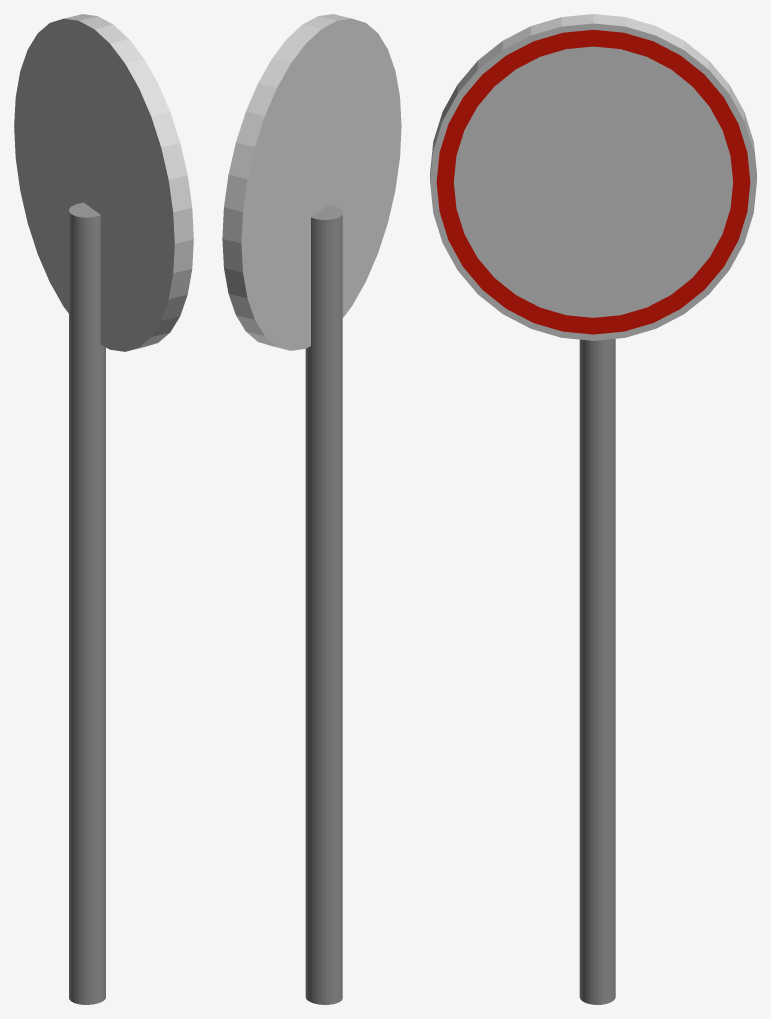
File: circle.040_lev3.glb
3 renders of one model, left to right at view 1: azimuth 30°, elevation 25°; view 2: azimuth 150°, elevation 25°; view 3: azimuth 270°, elevation 25°, orthographic. The views are drawn at different scales.
Parts seen in each view (by area): view 1: circle.040_lev3; view 2: circle.040_lev3; view 3: circle.040_lev3.
Part boxes in pixels (box(x1,y1,x2,y2)): circle.040_lev3: box(14, 14, 193, 1004); circle.040_lev3: box(222, 14, 401, 1004); circle.040_lev3: box(430, 14, 756, 1004).
Bounding box in the file's own units: 0.0972 × 2.23 × 0.6709.
